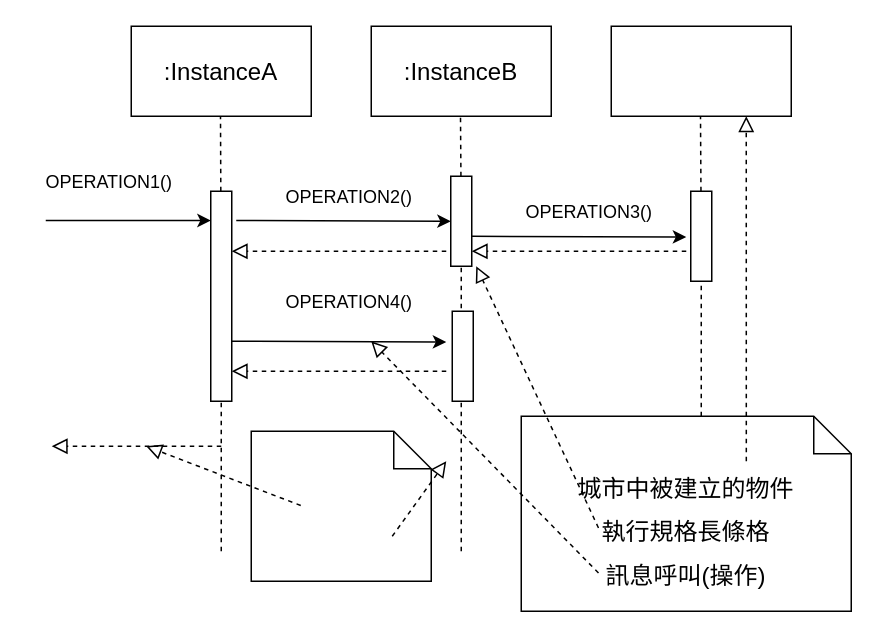
Image size: 878x638. Some labels were removed from this diagram. Each missing label, with the centre of its shape:
:InstanceC: [700,70]
回復訊息 物件生命線: [340,505]
